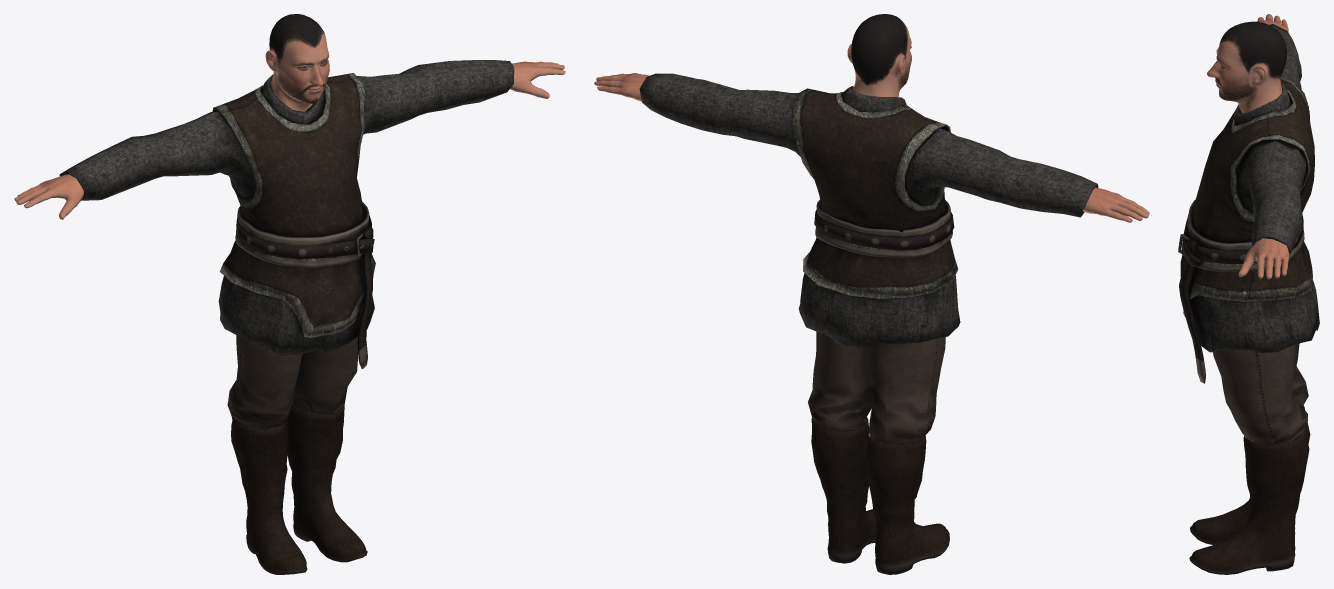
File: farmer.glb
The picture shows the model from 3 angles, left to right: view 1: azimuth 30°, elevation 25°; view 2: azimuth 150°, elevation 25°; view 3: azimuth 270°, elevation 25°; orthographic projection.
Visible parts, largest first — view 1: Object_4, Object_3, Object_2, Object_5; view 2: Object_4, Object_3, Object_2, Object_5; view 3: Object_4, Object_3, Object_2, Object_5.
Part boxes in pixels (bbox=[...]): Object_4: bbox=[59, 60, 514, 369]; Object_3: bbox=[231, 403, 367, 574]; Object_2: bbox=[227, 335, 357, 429]; Object_5: bbox=[14, 14, 565, 219]; Object_4: bbox=[639, 73, 1098, 346]; Object_3: bbox=[811, 417, 949, 574]; Object_2: bbox=[808, 331, 945, 443]; Object_5: bbox=[594, 14, 1149, 222]; Object_4: bbox=[1178, 24, 1319, 383]; Object_3: bbox=[1189, 405, 1310, 574]; Object_2: bbox=[1213, 343, 1308, 444]; Object_5: bbox=[1207, 14, 1288, 279].
Size of the model in its own units: 192 by 179 by 43.44.
Materials: 4 (4 with a texture image).
